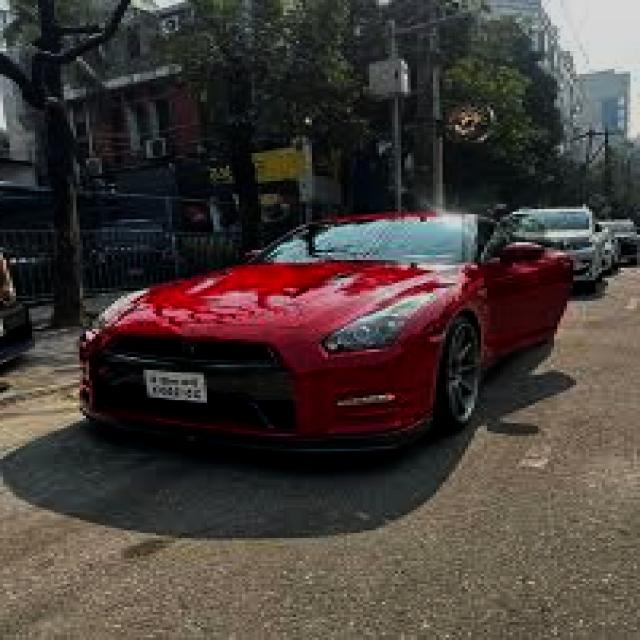red: (47, 213, 567, 453)
